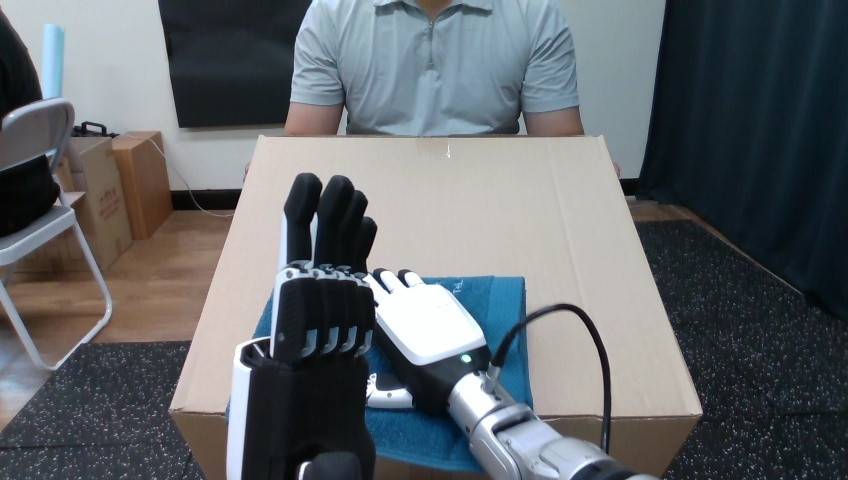left robot hand: (226, 173, 653, 479), (364, 269, 650, 479), (227, 173, 376, 478), (498, 309, 604, 449)
